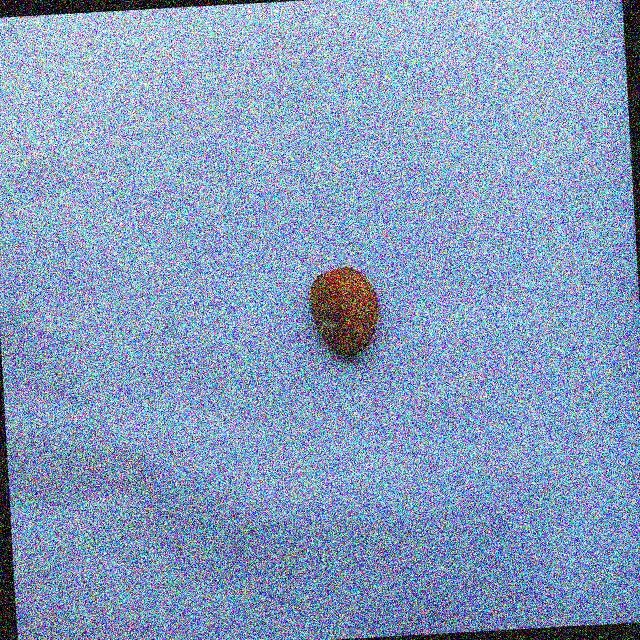grade3: (303, 261, 383, 364)
